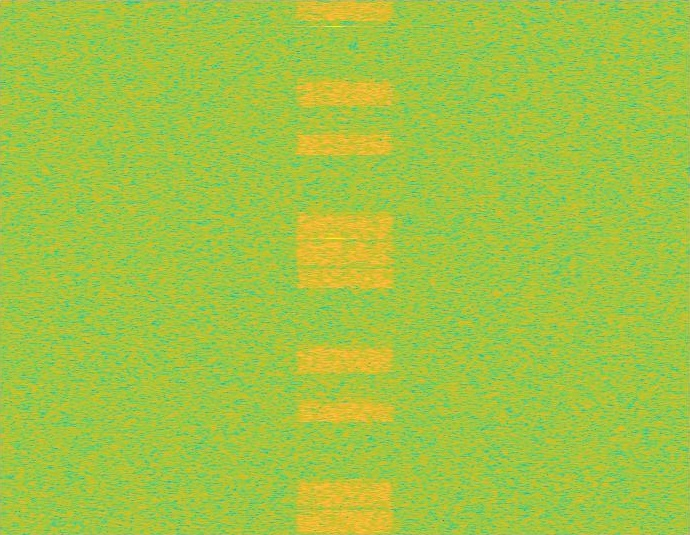LTE: (293, 0, 397, 534)
Radar: (328, 0, 342, 534)
